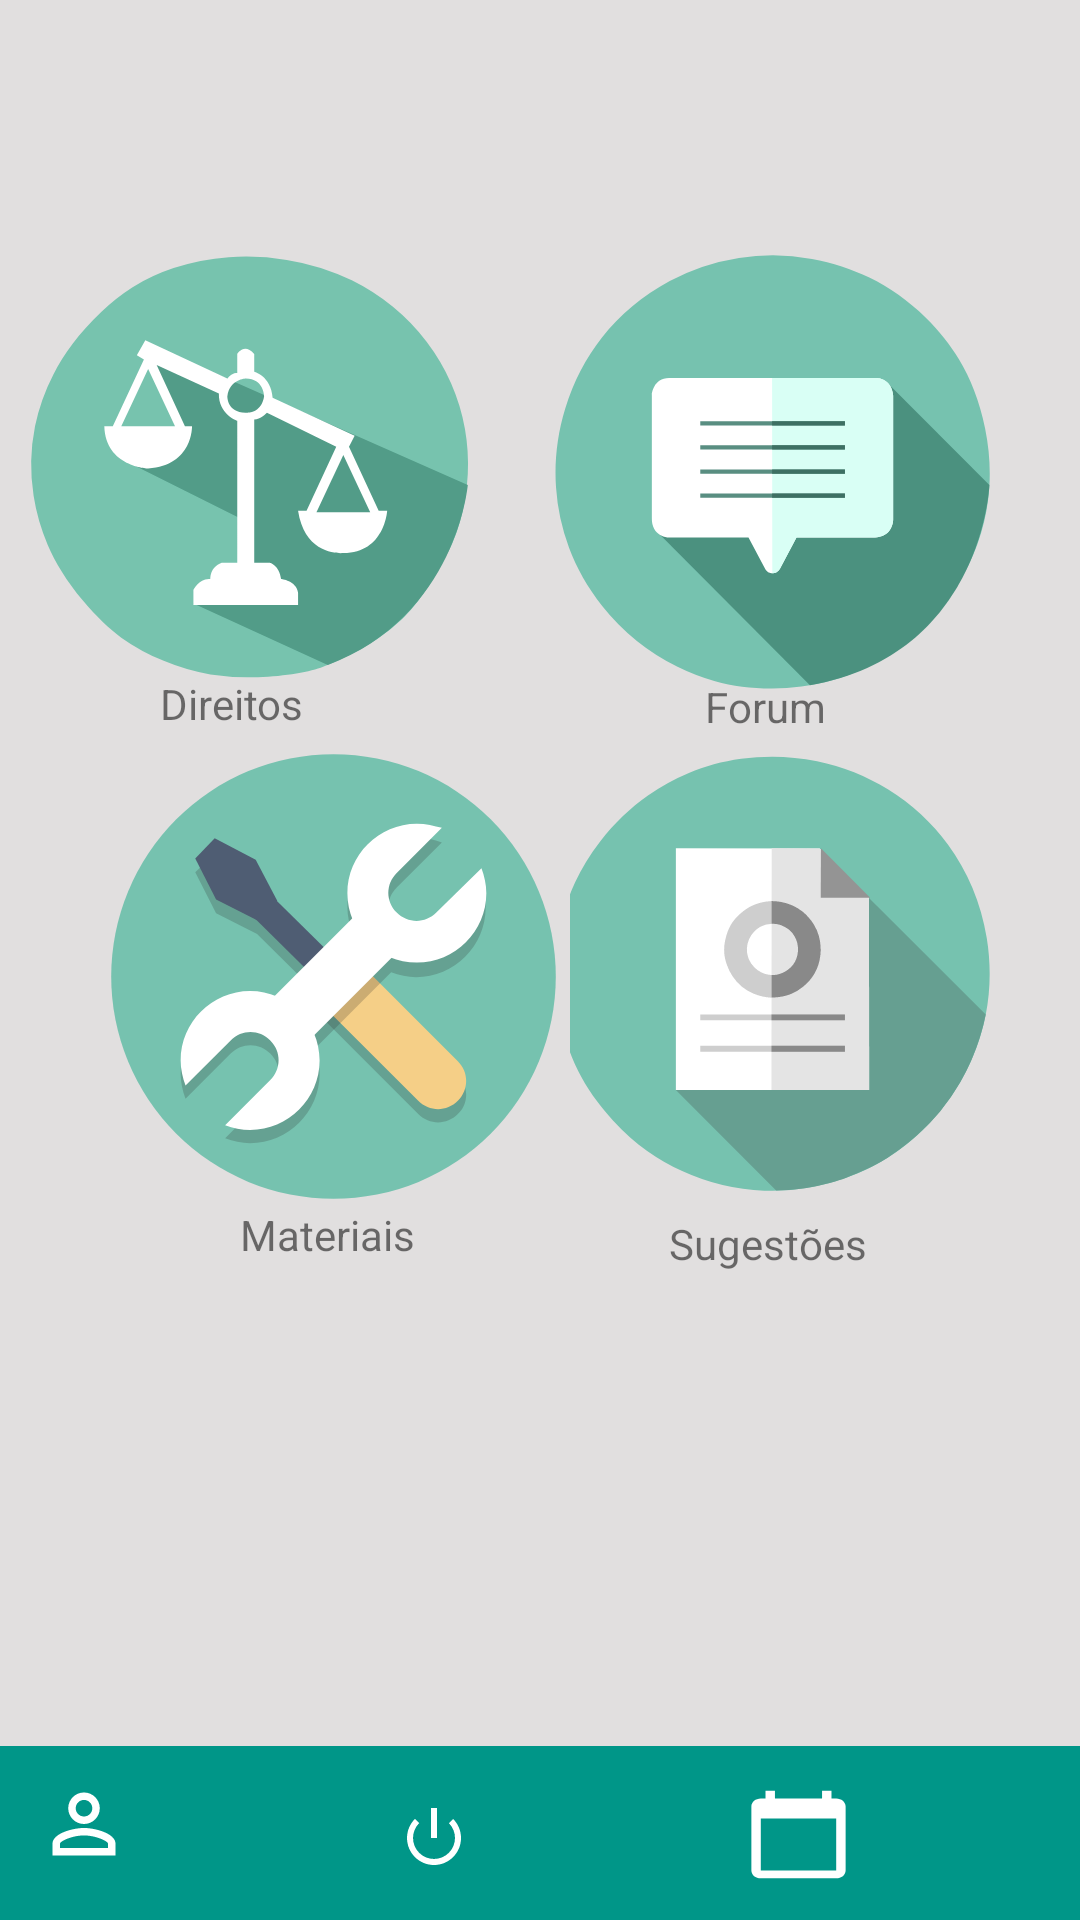

Point at icon controls on the screen. Image size 1080 x 1920, points as [x,y].
calendario: [798,1834]
lock power off: [434,1836]
user: [84,1824]
